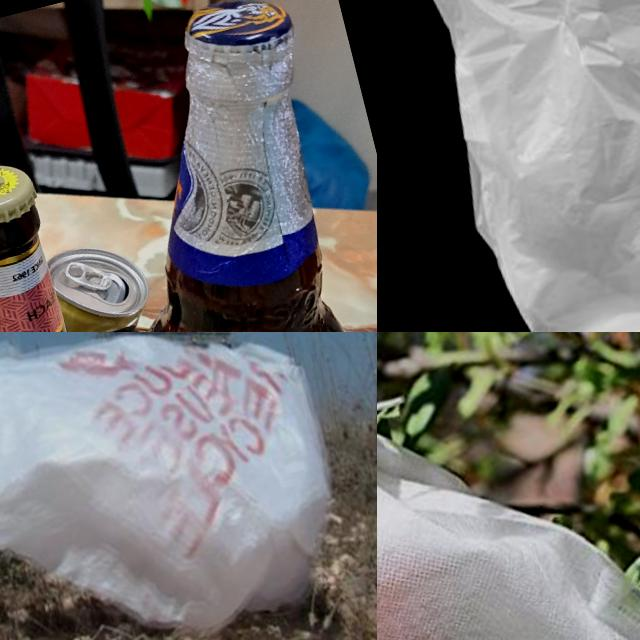garrafa de vidro: (3, 0, 377, 332), (0, 148, 155, 332)
sacola plástica: (0, 332, 377, 640), (377, 0, 640, 332), (377, 332, 640, 640)
